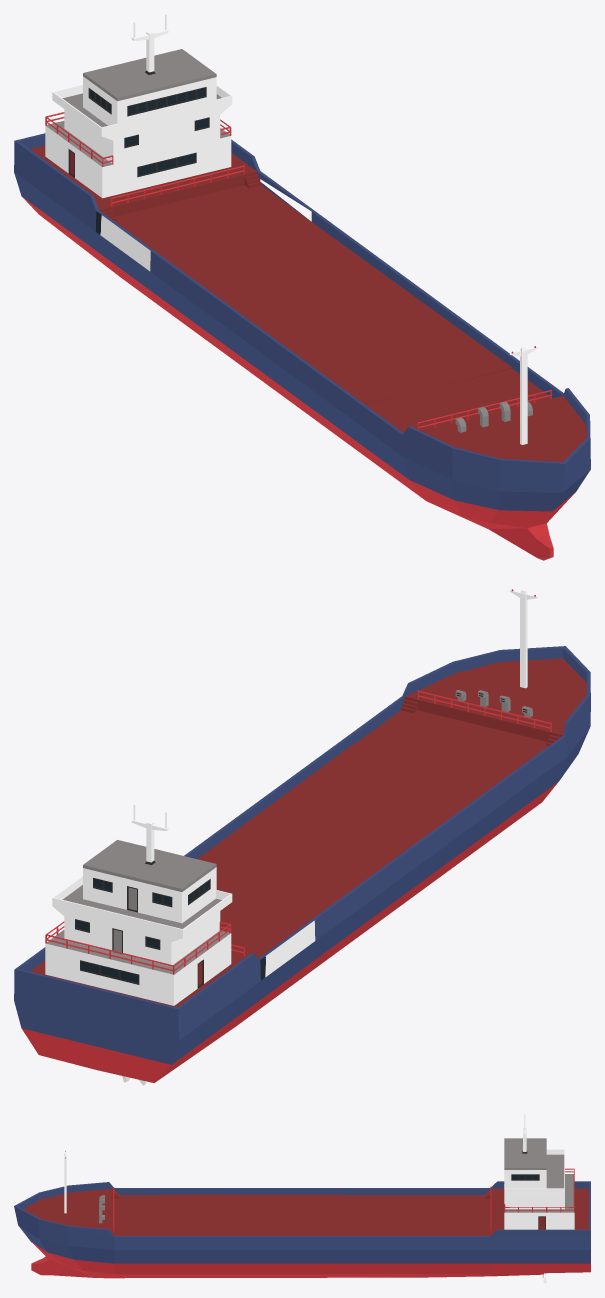
Rendered from ship-cargo-base.glb.
3 views of the same model, one above another, from view 1: azimuth 30°, elevation 25°; view 2: azimuth 150°, elevation 25°; view 3: azimuth 270°, elevation 25° (orthographic). The views are drawn at different scales.
Visible parts, largest first — view 1: ship-cargo-base; view 2: ship-cargo-base; view 3: ship-cargo-base.
Part boxes in pixels (x1,y1,x2,y2): ship-cargo-base: (14, 14, 590, 560); ship-cargo-base: (14, 589, 590, 1085); ship-cargo-base: (14, 1114, 590, 1283).
Bounding box in the file's own units: 16.64 × 25.43 × 81.97.
1 material, 1 textured.
